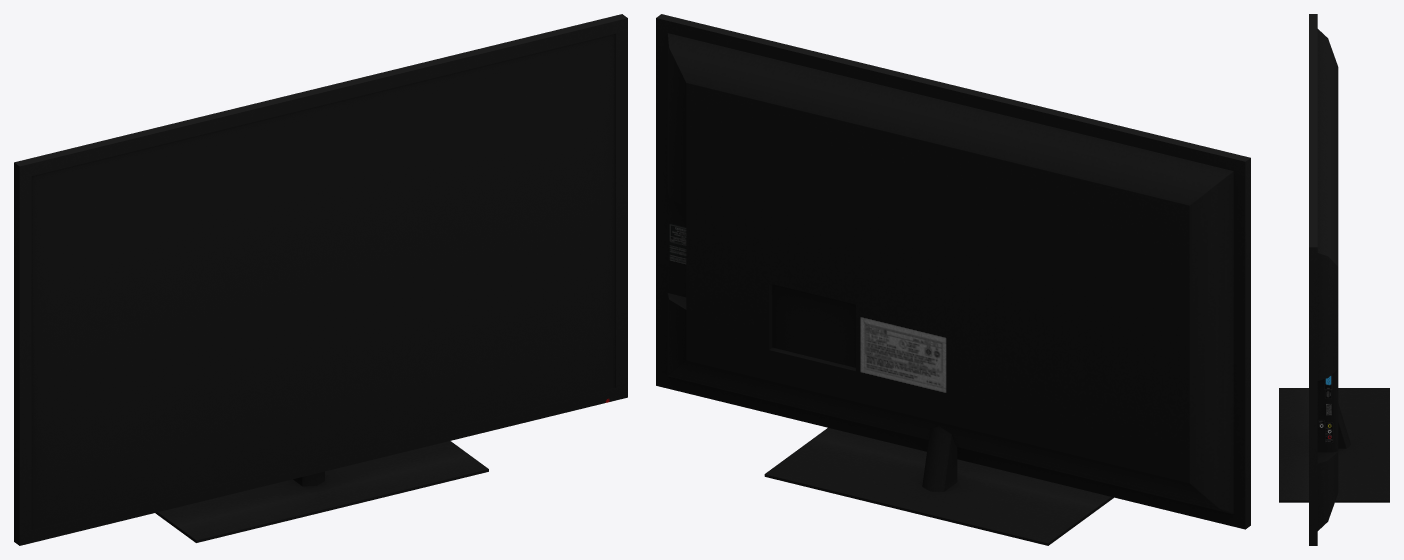
3 views of the same model, side by side, from view 1: azimuth 30°, elevation 25°; view 2: azimuth 150°, elevation 25°; view 3: azimuth 270°, elevation 25° (orthographic). The views are drawn at different scales.
Parts seen in each view (by area): view 1: tv1; view 2: tv1; view 3: tv1.
Part boxes in pixels (x1,y1,x2,y2): tv1: (14,14,627,545); tv1: (656,14,1250,545); tv1: (1279,14,1389,545).
Size of the model in its own units: 0.9936 by 0.6265 by 0.1992.
